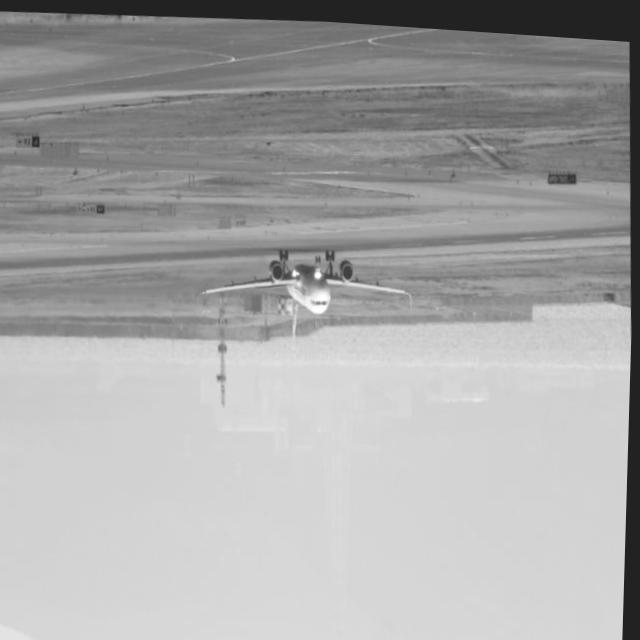aeroplane: (193, 235, 418, 358)
